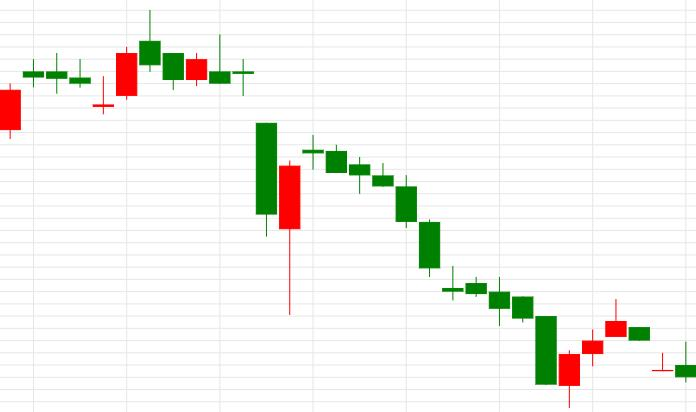hammer_rise: (139, 10, 301, 315)
